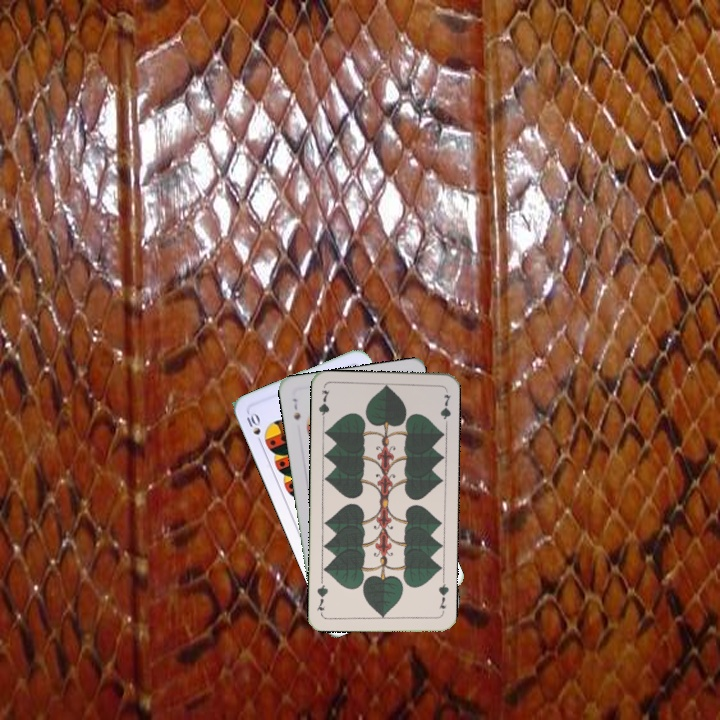G7: (315, 386, 332, 426), (434, 576, 451, 616)
S10: (241, 408, 269, 448)
S7: (289, 394, 303, 423)
